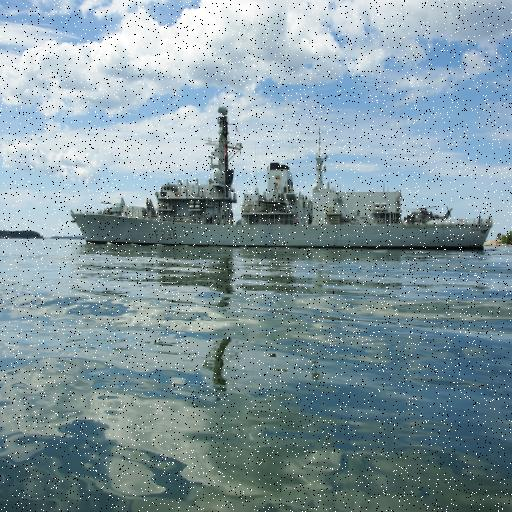Fragata: (69, 109, 495, 251)
